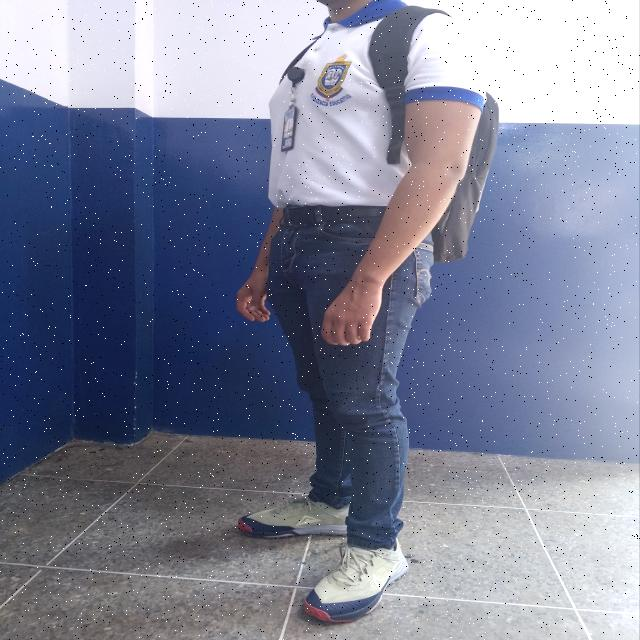carnet: (282, 109, 294, 150)
pantalon_oscuro: (266, 217, 435, 550)
uniforme_superior: (266, 0, 484, 207)
